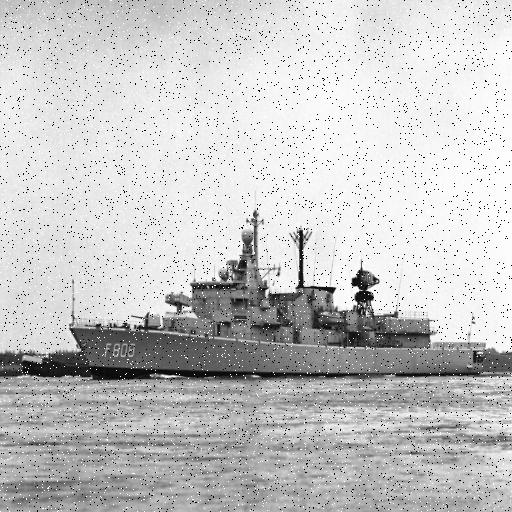Fragata: (63, 198, 493, 389)
